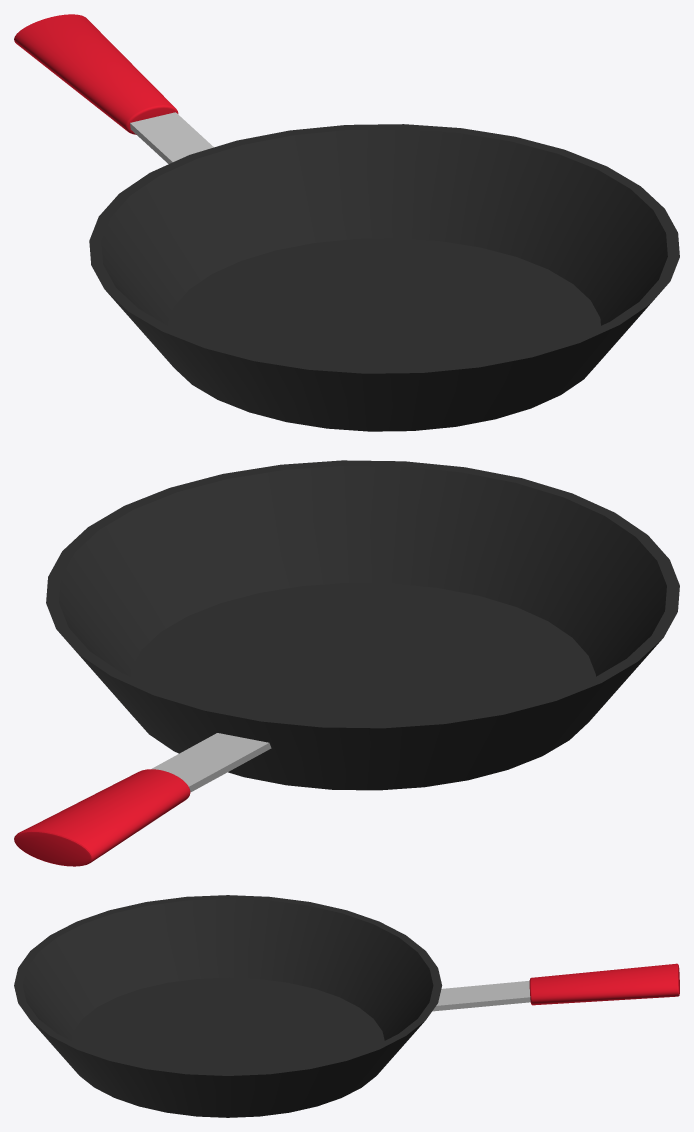
File: Kawali_Empty.glb
3 renders of one model, top to bottom at view 1: azimuth 30°, elevation 25°; view 2: azimuth 150°, elevation 25°; view 3: azimuth 270°, elevation 25°, orthographic. The views are drawn at different scales.
Parts seen in each view (by area): view 1: Circle, Circle.002, Circle.001; view 2: Circle, Circle.002, Circle.001; view 3: Circle, Circle.002, Circle.001.
Boxes of the visible parts, x1=… form: Circle: x1=89, y1=124, x2=679, y2=431; Circle.002: x1=14, y1=14, x2=178, y2=134; Circle.001: x1=130, y1=112, x2=213, y2=163; Circle: x1=46, y1=460, x2=679, y2=790; Circle.002: x1=14, y1=769, x2=190, y2=866; Circle.001: x1=151, y1=733, x2=271, y2=792; Circle: x1=14, y1=895, x2=442, y2=1117; Circle.002: x1=529, y1=963, x2=679, y2=1005; Circle.001: x1=432, y1=980, x2=530, y2=1011.
Size of the model in its own units: 2.41 by 0.4465 by 3.75.
